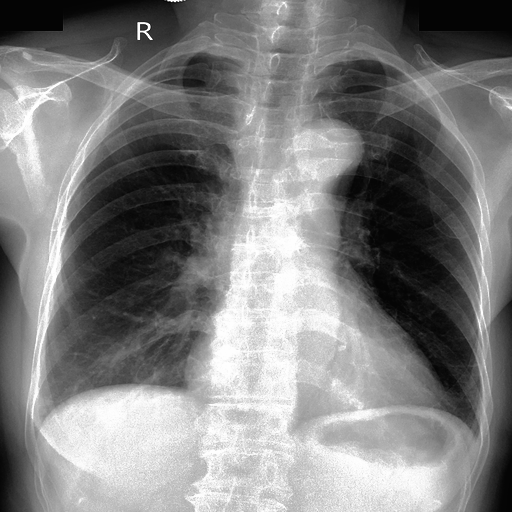Calcification: (156, 53, 233, 69)
Consolidation: (288, 120, 367, 183)
Nodule/Mass: (183, 345, 452, 416)
